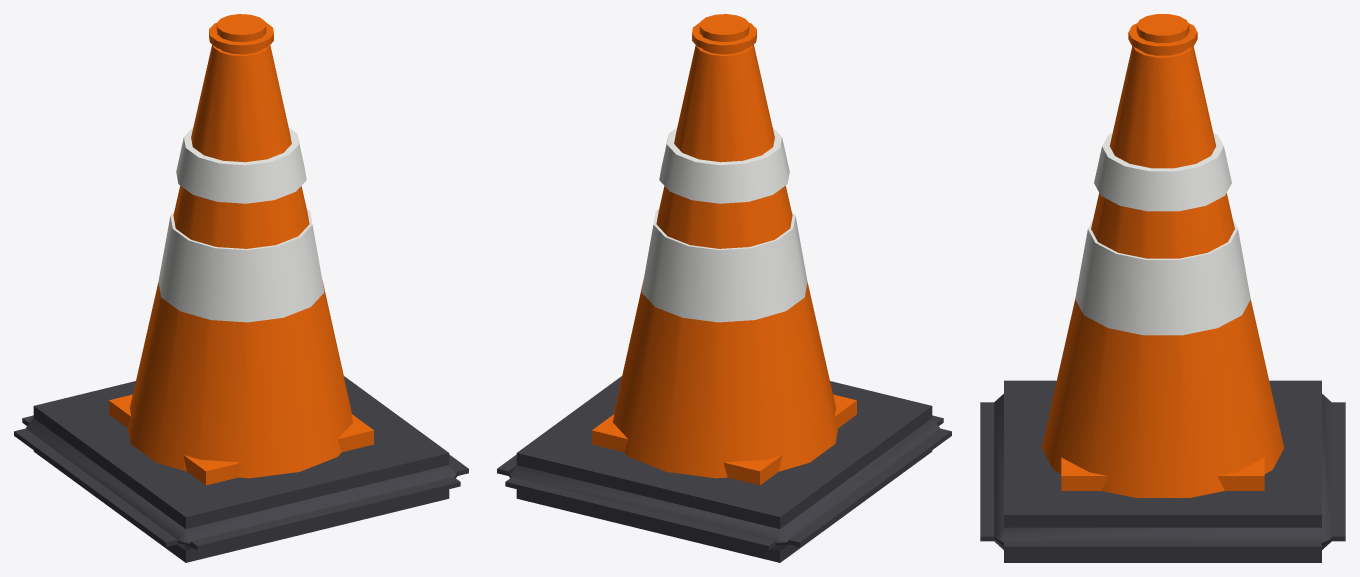
File: traffic_cone.fbx
3 views of the same model, side by side, from view 1: azimuth 30°, elevation 25°; view 2: azimuth 150°, elevation 25°; view 3: azimuth 270°, elevation 25° (orthographic). The views are drawn at different scales.
Parts seen in each view (by area): view 1: traffic_cone; view 2: traffic_cone; view 3: traffic_cone.
Boxes of the visible parts, bbox=[...] form: traffic_cone: bbox=[14, 14, 468, 562]; traffic_cone: bbox=[497, 14, 951, 562]; traffic_cone: bbox=[980, 14, 1345, 562].
Size of the model in its own units: 1.8 by 2.56 by 1.8.
